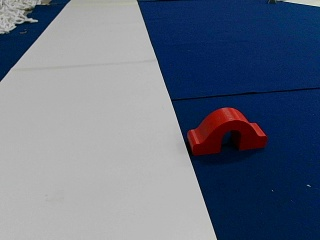bridge: (190, 107, 266, 152)
